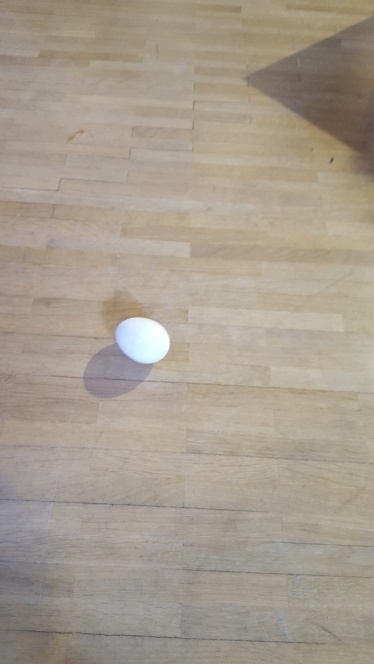egg: (115, 317, 170, 364)
